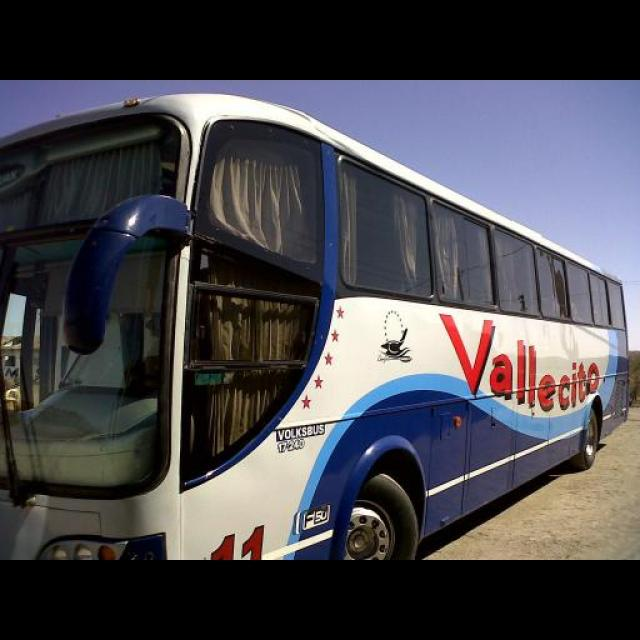Bus: (1, 102, 640, 558)
